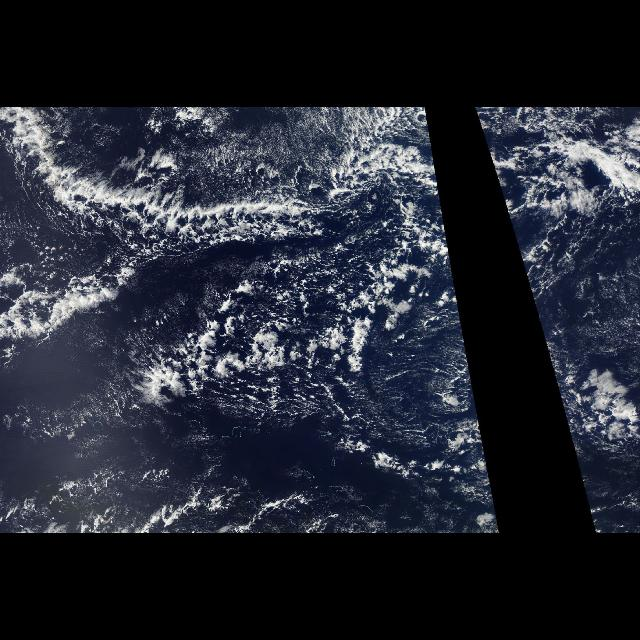Fish: (0, 107, 452, 351)
Gravel: (143, 205, 457, 425), (521, 216, 639, 334)
Sugar: (2, 364, 340, 530), (509, 218, 639, 372), (166, 108, 354, 174)
